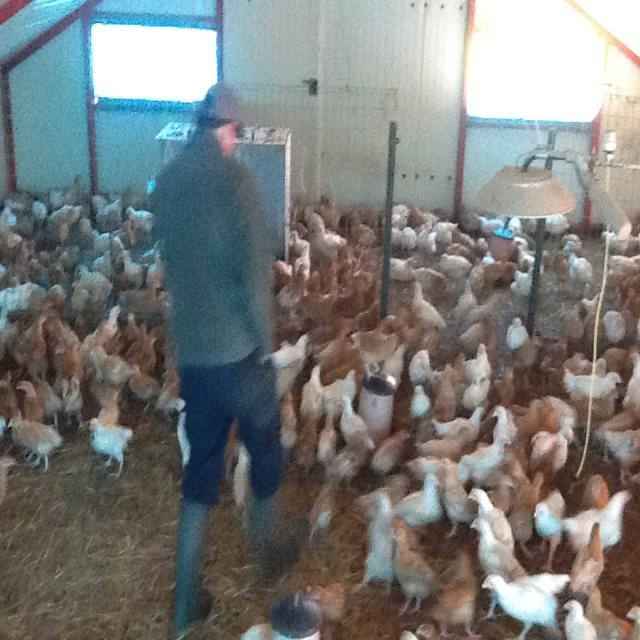poussin: (480, 562, 564, 640), (396, 467, 452, 543), (566, 498, 632, 562), (387, 522, 433, 613), (474, 515, 534, 581), (471, 484, 518, 552), (572, 517, 607, 606), (88, 416, 136, 479), (437, 564, 480, 634), (0, 417, 60, 465), (459, 430, 509, 486), (572, 460, 611, 531), (366, 488, 394, 586), (306, 580, 350, 640), (354, 323, 404, 375), (302, 470, 338, 542), (530, 484, 564, 558), (586, 585, 630, 640), (602, 421, 640, 484), (339, 390, 377, 452), (316, 364, 362, 415), (502, 491, 538, 554), (119, 272, 163, 322), (562, 370, 622, 406), (310, 208, 347, 265), (271, 334, 311, 386), (534, 424, 574, 474), (372, 423, 414, 470), (409, 282, 449, 331), (46, 171, 95, 210), (334, 432, 370, 484), (312, 323, 356, 364), (577, 388, 620, 429), (76, 262, 112, 310), (460, 308, 496, 354), (338, 279, 378, 320), (89, 302, 124, 348), (436, 406, 486, 438), (88, 346, 129, 385), (420, 430, 472, 460), (431, 359, 455, 424), (0, 278, 37, 320), (16, 307, 46, 358), (294, 414, 320, 472), (496, 434, 526, 484), (130, 364, 161, 412), (528, 440, 566, 479), (544, 390, 583, 428), (306, 278, 345, 316), (231, 440, 250, 517), (442, 467, 468, 523), (282, 260, 310, 312), (46, 304, 78, 348), (326, 349, 364, 386), (298, 362, 324, 416), (130, 330, 163, 372), (562, 598, 594, 640), (602, 343, 640, 378), (489, 368, 520, 410), (486, 250, 514, 296), (384, 339, 408, 391), (60, 378, 86, 426), (320, 402, 340, 464), (278, 390, 298, 452), (348, 210, 376, 254), (149, 366, 176, 411), (457, 375, 493, 408), (491, 404, 516, 451), (450, 281, 477, 324), (386, 253, 419, 288), (56, 338, 85, 377), (566, 253, 596, 289), (560, 355, 606, 378), (521, 394, 545, 438), (437, 246, 470, 278), (605, 250, 640, 280), (86, 381, 122, 410), (18, 377, 42, 420), (487, 478, 517, 512), (127, 318, 153, 357), (581, 310, 606, 350), (25, 336, 50, 376), (465, 342, 492, 379), (427, 220, 464, 247), (602, 226, 640, 252), (95, 184, 136, 208), (6, 237, 42, 264), (415, 264, 449, 292), (517, 329, 541, 368), (120, 247, 144, 286), (438, 346, 465, 380), (0, 450, 17, 504), (50, 202, 85, 228), (408, 377, 430, 418), (86, 402, 121, 427), (622, 292, 640, 340), (95, 201, 122, 233), (29, 194, 56, 226), (69, 284, 94, 318), (146, 248, 165, 292), (520, 472, 546, 504), (90, 229, 122, 255), (124, 207, 154, 234), (0, 364, 16, 414), (353, 297, 382, 324), (418, 224, 442, 256), (473, 212, 505, 236), (90, 249, 112, 283), (0, 200, 18, 239), (410, 348, 431, 381), (26, 252, 49, 282), (508, 268, 536, 292), (543, 214, 566, 243), (0, 320, 17, 359), (561, 222, 582, 253), (265, 251, 288, 279), (628, 356, 640, 408), (508, 315, 526, 349), (624, 600, 640, 638), (412, 206, 442, 226), (122, 311, 140, 344), (608, 306, 624, 343), (55, 217, 76, 245), (30, 257, 50, 286), (72, 214, 96, 238), (390, 204, 408, 235), (45, 280, 66, 306), (519, 244, 537, 274), (580, 292, 600, 318), (34, 243, 64, 260), (418, 618, 440, 640), (470, 253, 482, 293), (50, 260, 67, 288), (290, 232, 309, 256), (56, 374, 70, 404), (508, 217, 522, 240), (400, 230, 414, 252), (484, 246, 494, 268)
